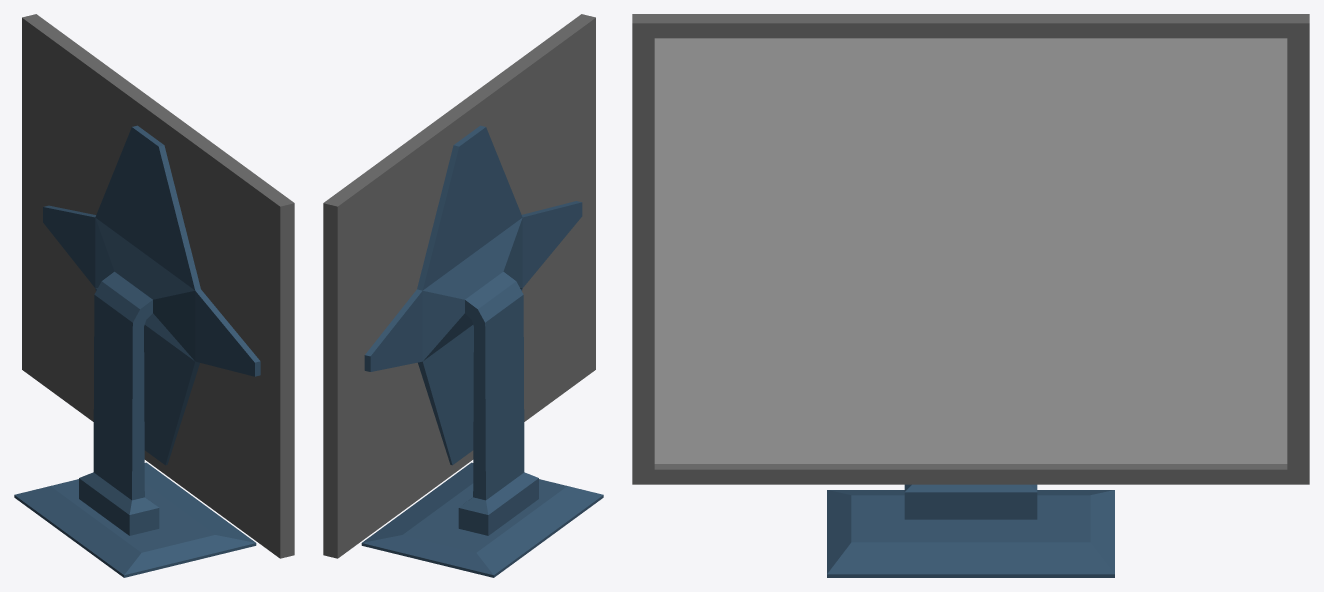
File: DebrisScreen.fbx
The picture shows the model from 3 angles, left to right: view 1: azimuth 30°, elevation 25°; view 2: azimuth 150°, elevation 25°; view 3: azimuth 270°, elevation 25°; orthographic projection. The views are drawn at different scales.
Parts seen in each view (by area): view 1: Plane.001; view 2: Plane.001; view 3: Plane.001.
Part boxes in pixels (x1,y1,x2,y2): Plane.001: [14, 14, 294, 577]; Plane.001: [323, 14, 603, 577]; Plane.001: [632, 14, 1309, 577].
Bounding box in the file's own units: 43.8 × 128 × 148.
